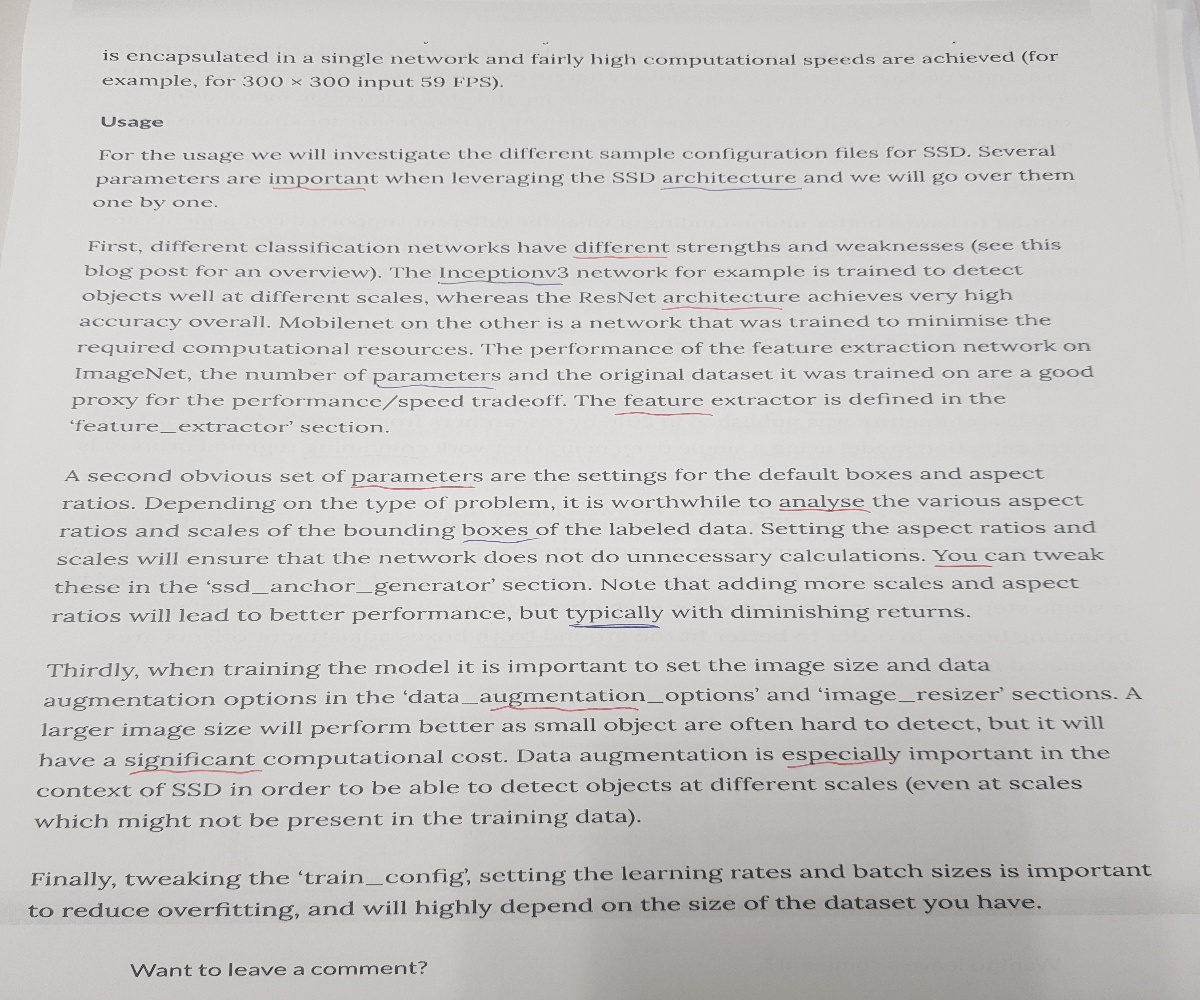underline: (370, 379, 501, 395), (487, 703, 640, 715), (347, 481, 478, 493), (126, 766, 263, 777), (661, 303, 784, 315), (434, 276, 564, 287), (775, 504, 871, 518), (657, 184, 806, 193), (785, 758, 896, 770), (566, 621, 664, 634), (611, 408, 716, 420), (267, 183, 370, 194), (568, 252, 668, 261), (930, 560, 992, 572), (460, 537, 542, 544)
